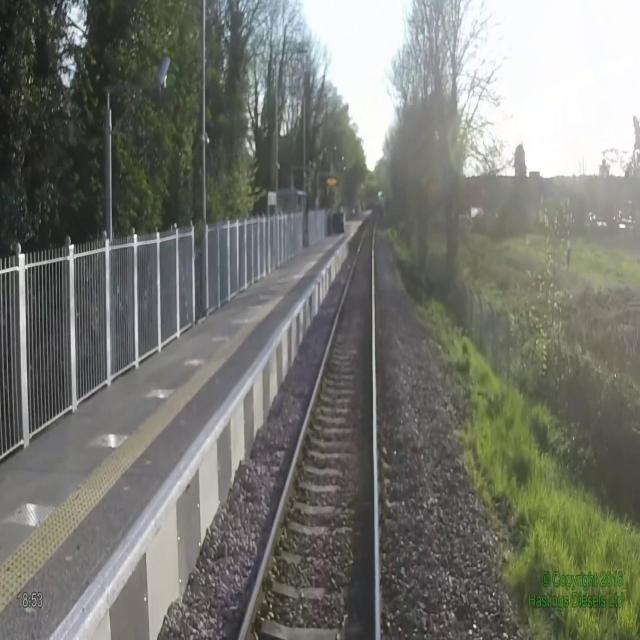rail-track: (241, 216, 376, 639)
